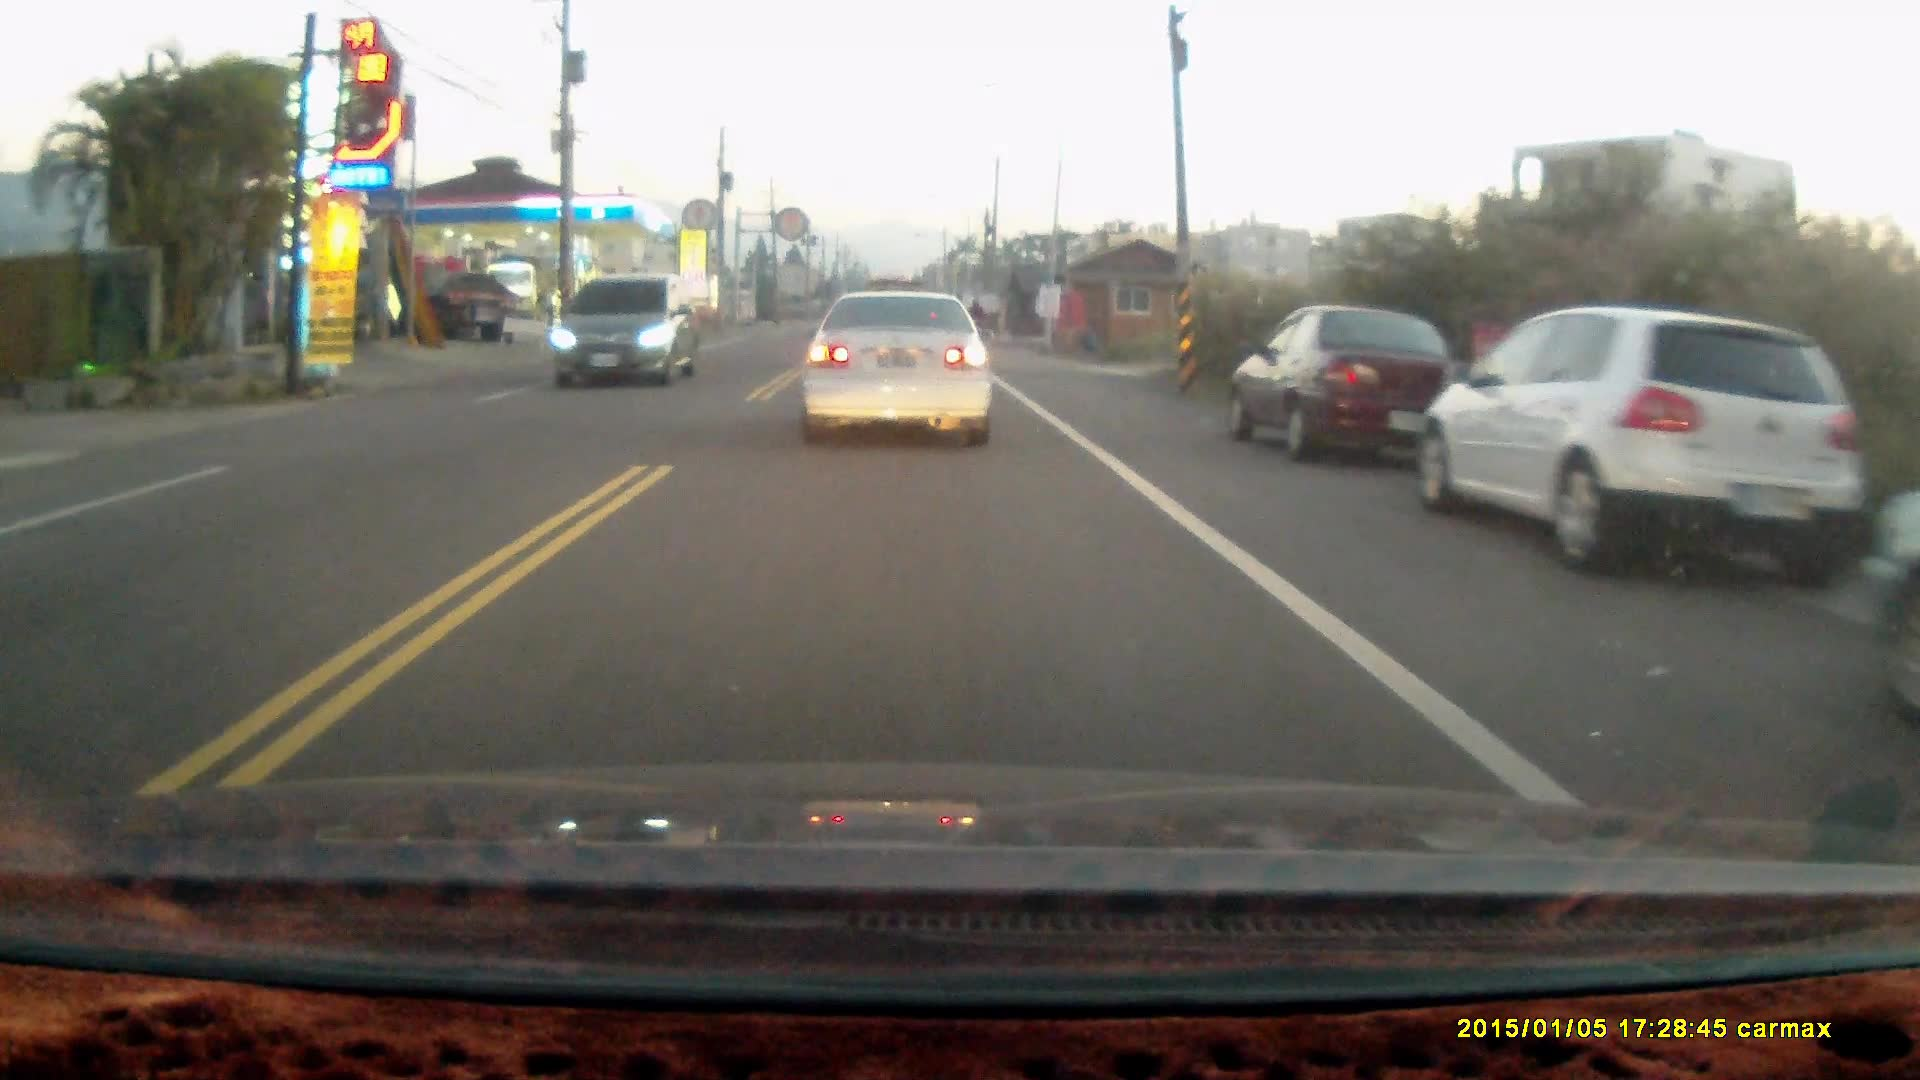vehicle: (1423, 306, 1874, 568), (1228, 306, 1478, 456), (796, 280, 996, 446), (551, 274, 702, 390)
